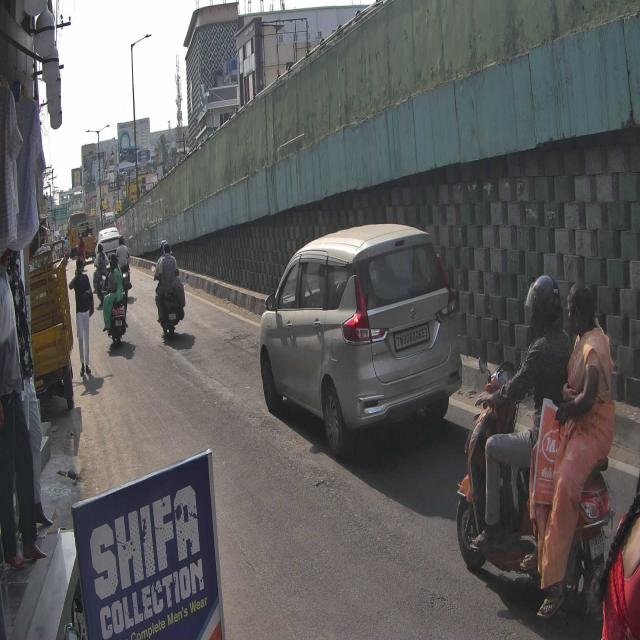double_rider: (452, 268, 617, 627)
